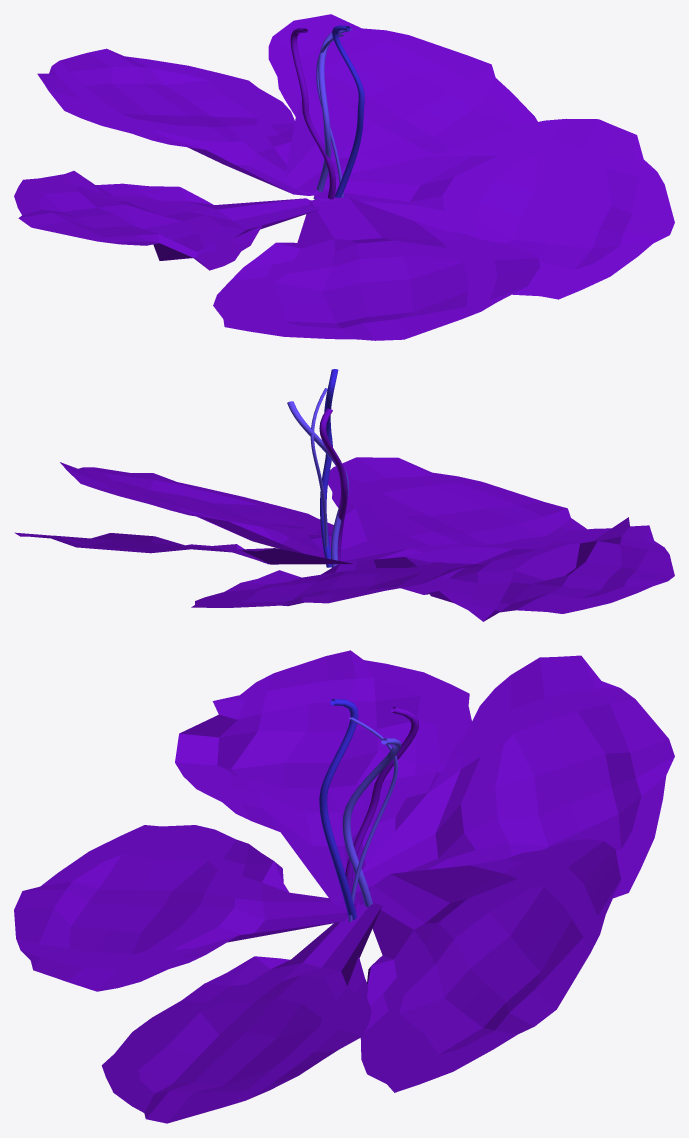
File: quaresmeira 009 cor.glb
3 views of the same model, one above another, from view 1: azimuth 30°, elevation 25°; view 2: azimuth 150°, elevation 25°; view 3: azimuth 270°, elevation 25° (orthographic). The views are drawn at different scales.
Parts seen in each view (by area): view 1: BézierCurve; view 2: BézierCurve; view 3: BézierCurve.
Boxes of the visible parts, left/top/right/bottom form: BézierCurve: left=14, top=14, right=674, bottom=340; BézierCurve: left=14, top=369, right=674, bottom=621; BézierCurve: left=14, top=650, right=674, bottom=1123.
Size of the model in its own units: 2.75 by 1.03 by 2.1.
